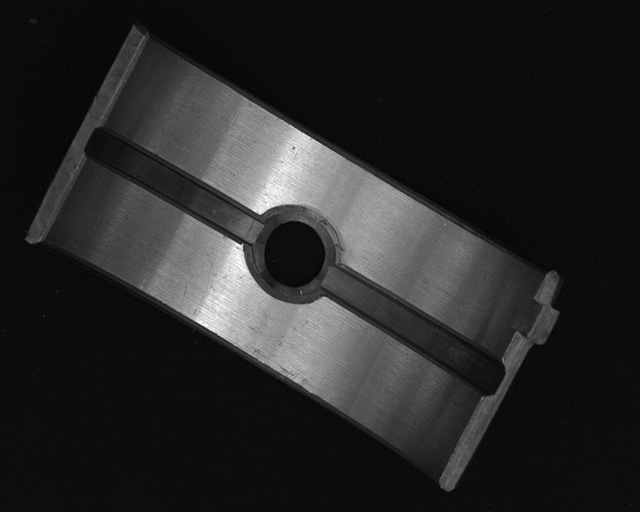gap: (325, 265, 503, 400), (88, 127, 263, 243)
hole: (257, 204, 330, 296)
